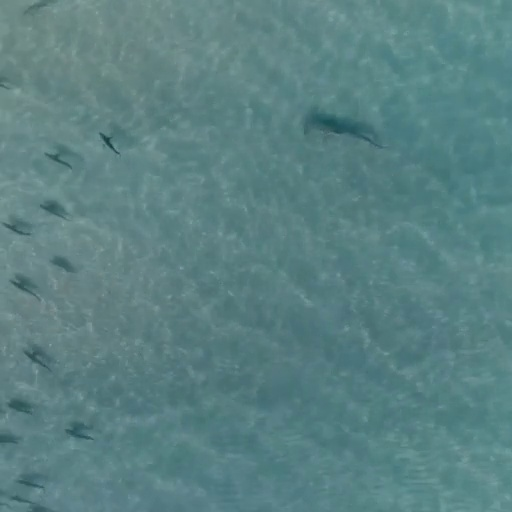shark: (301, 107, 388, 154)
